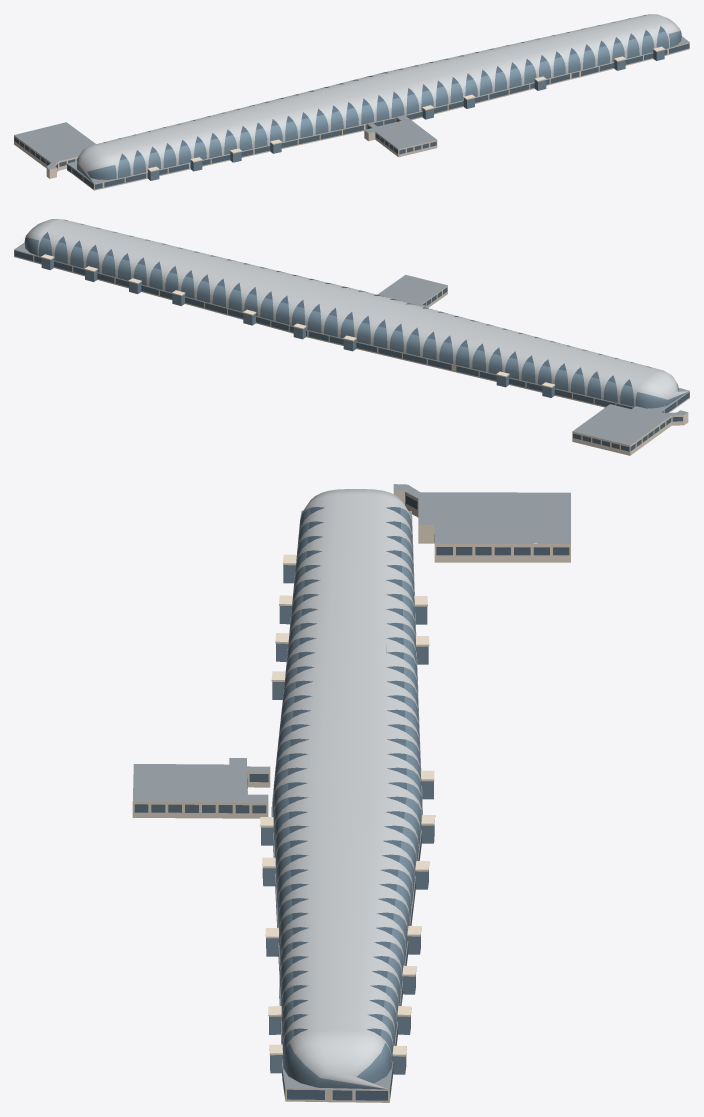
File: dubai-dxb-concourse-b.glb
3 views of the same model, one above another, from view 1: azimuth 30°, elevation 25°; view 2: azimuth 150°, elevation 25°; view 3: azimuth 270°, elevation 25° (orthographic). The views are drawn at different scales.
Parts seen in each view (by area): view 1: Dubai International Airport Concourse B; view 2: Dubai International Airport Concourse B; view 3: Dubai International Airport Concourse B.
Boxes of the visible parts, x1,y1,x2,y2 form: Dubai International Airport Concourse B: (14,14,689,190); Dubai International Airport Concourse B: (14,219,689,455); Dubai International Airport Concourse B: (132,484,570,1102).
Bounding box in the file's own units: 953 × 38 × 294.
